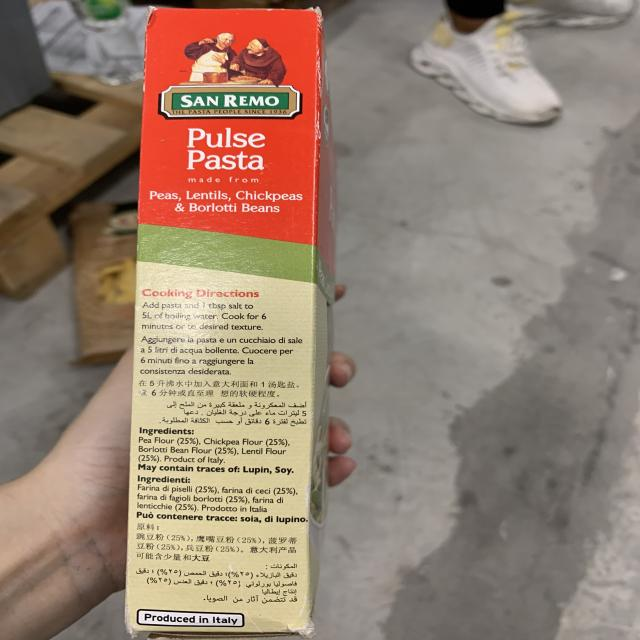object_name: (143, 9, 310, 635)
